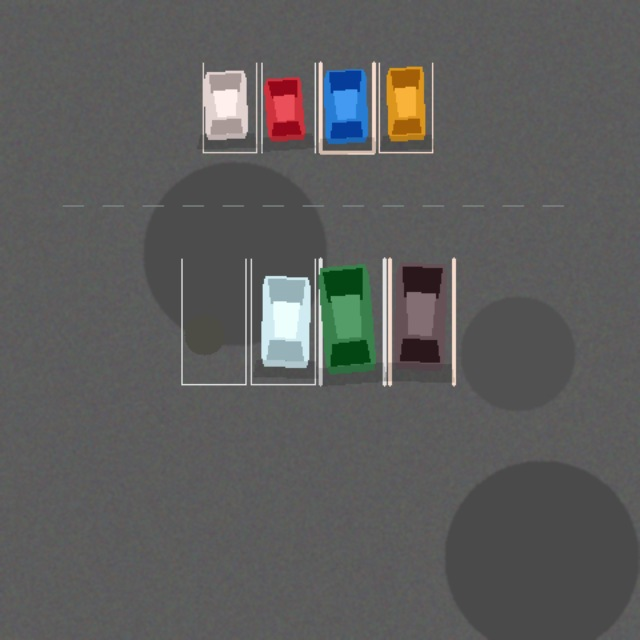space-empty: (181, 259, 245, 384)
space-occupied: (251, 259, 315, 384), (320, 259, 384, 384), (389, 259, 453, 384), (261, 63, 315, 152), (203, 63, 256, 152), (320, 63, 373, 152), (379, 63, 432, 152)
